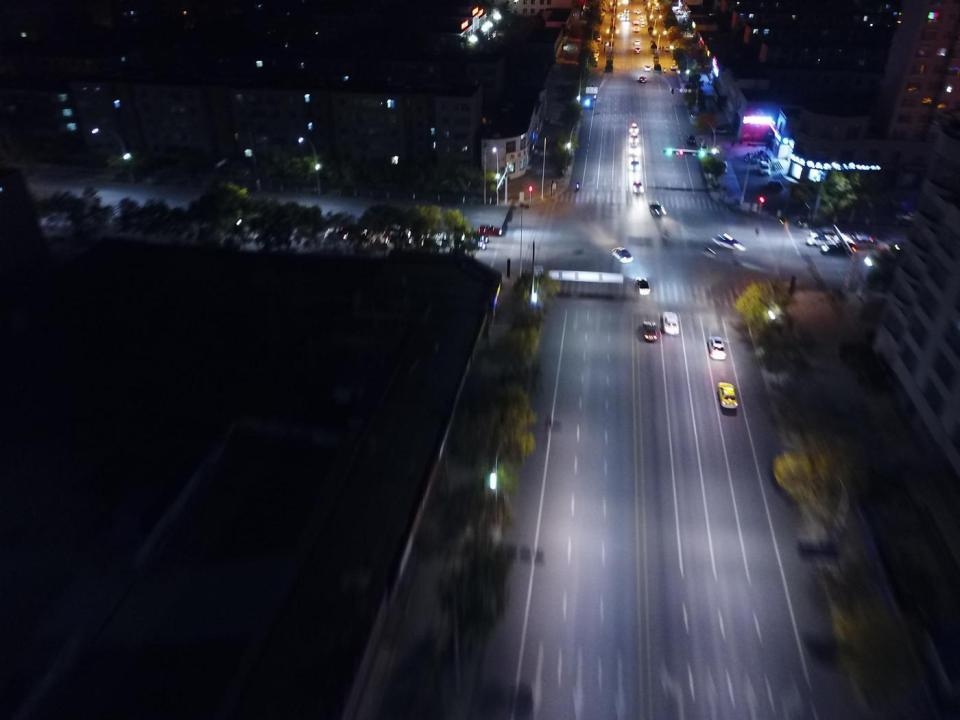car: (840, 342, 887, 392), (231, 217, 268, 241), (713, 233, 746, 252), (808, 236, 852, 250), (719, 384, 738, 412), (810, 228, 844, 242), (821, 244, 857, 257), (708, 336, 726, 360), (662, 311, 679, 336), (868, 244, 899, 257), (852, 235, 878, 249), (642, 320, 658, 342), (634, 276, 650, 296), (612, 246, 632, 262), (848, 231, 872, 244), (896, 212, 918, 226), (649, 200, 665, 217), (478, 225, 501, 235), (758, 160, 772, 175), (632, 179, 643, 193), (769, 179, 783, 190), (713, 127, 731, 135), (629, 158, 640, 170), (583, 96, 592, 109), (687, 134, 696, 146), (720, 160, 728, 173), (630, 145, 638, 156), (630, 134, 638, 144), (630, 123, 638, 133), (700, 142, 708, 150), (639, 76, 647, 82), (644, 64, 650, 72), (676, 9, 683, 14), (592, 61, 597, 67), (635, 48, 640, 54), (634, 40, 640, 45), (670, 64, 675, 70), (593, 56, 598, 61), (624, 16, 629, 21), (594, 50, 598, 56), (634, 19, 638, 25), (602, 6, 606, 11), (596, 36, 601, 40), (601, 12, 606, 16), (640, 16, 644, 21), (634, 27, 638, 32), (665, 46, 669, 51), (586, 5, 590, 9), (636, 10, 640, 14), (620, 12, 624, 16), (684, 26, 688, 30), (624, 9, 629, 12), (605, 42, 609, 45)
van: (640, 22, 644, 27)
